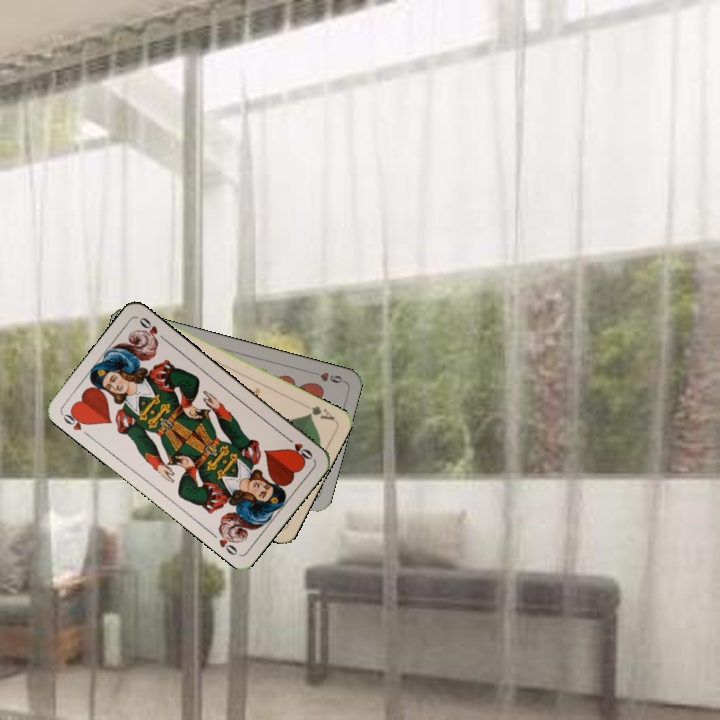GA: (299, 401, 337, 423)
H9: (307, 368, 347, 386)
HO: (281, 433, 315, 462), (58, 406, 91, 433)
